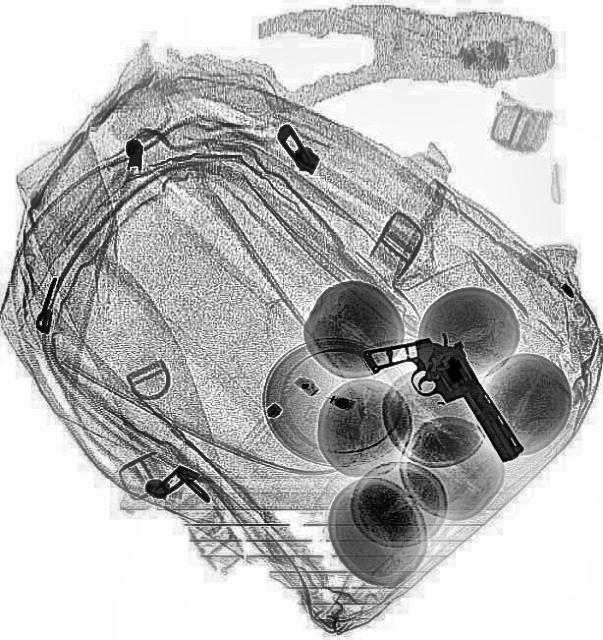Gun: (358, 306, 528, 496)
